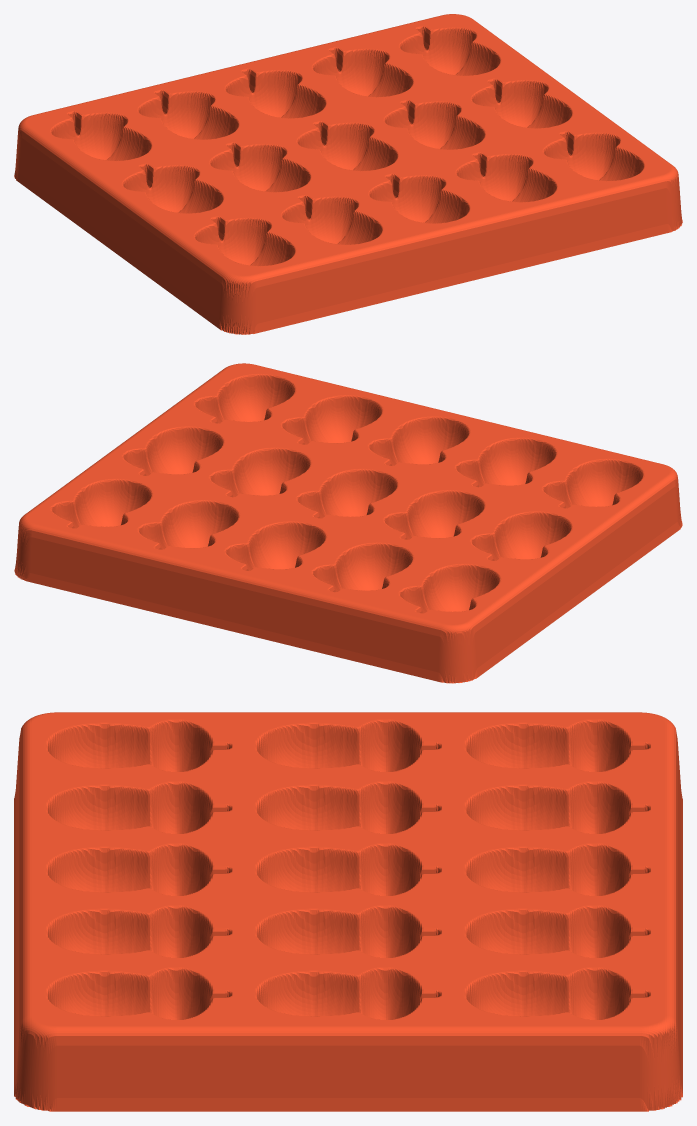
Rendered from mold.glb.
3 views of the same model, one above another, from view 1: azimuth 30°, elevation 25°; view 2: azimuth 150°, elevation 25°; view 3: azimuth 270°, elevation 25° (orthographic). The views are drawn at different scales.
Visible parts, largest first — view 1: geometry_0; view 2: geometry_0; view 3: geometry_0.
Boxes of the visible parts, bbox=[...] form: geometry_0: bbox=[14, 14, 682, 334]; geometry_0: bbox=[14, 363, 682, 683]; geometry_0: bbox=[14, 712, 682, 1111].
Bounding box in the file's own units: 0.1638 × 0.0182 × 0.1415.
